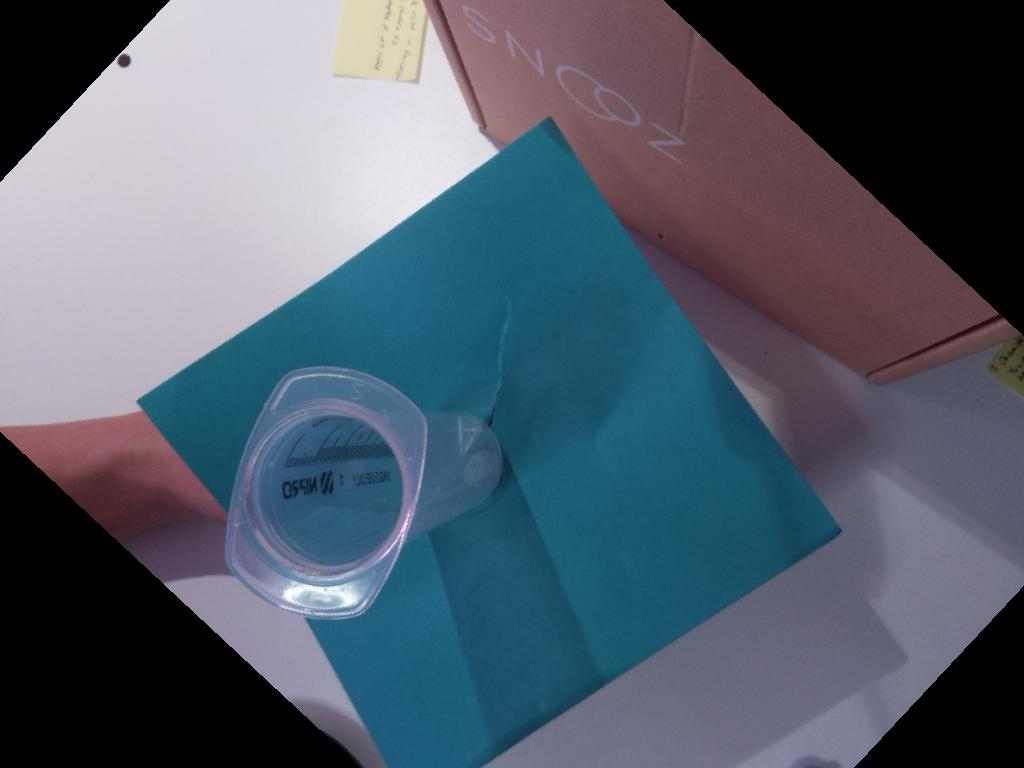clean: (225, 363, 427, 622)
